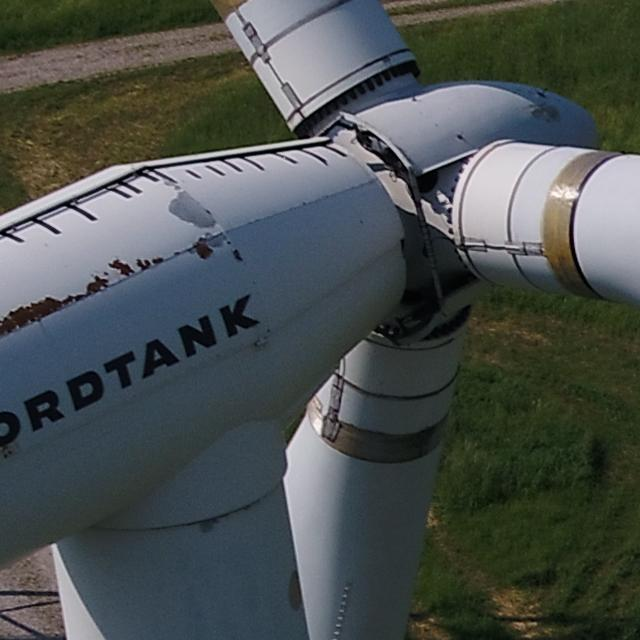damage: (1, 283, 85, 342), (165, 187, 222, 230), (103, 256, 140, 279), (188, 236, 220, 262), (81, 272, 114, 296), (136, 254, 168, 276), (232, 244, 247, 264)
